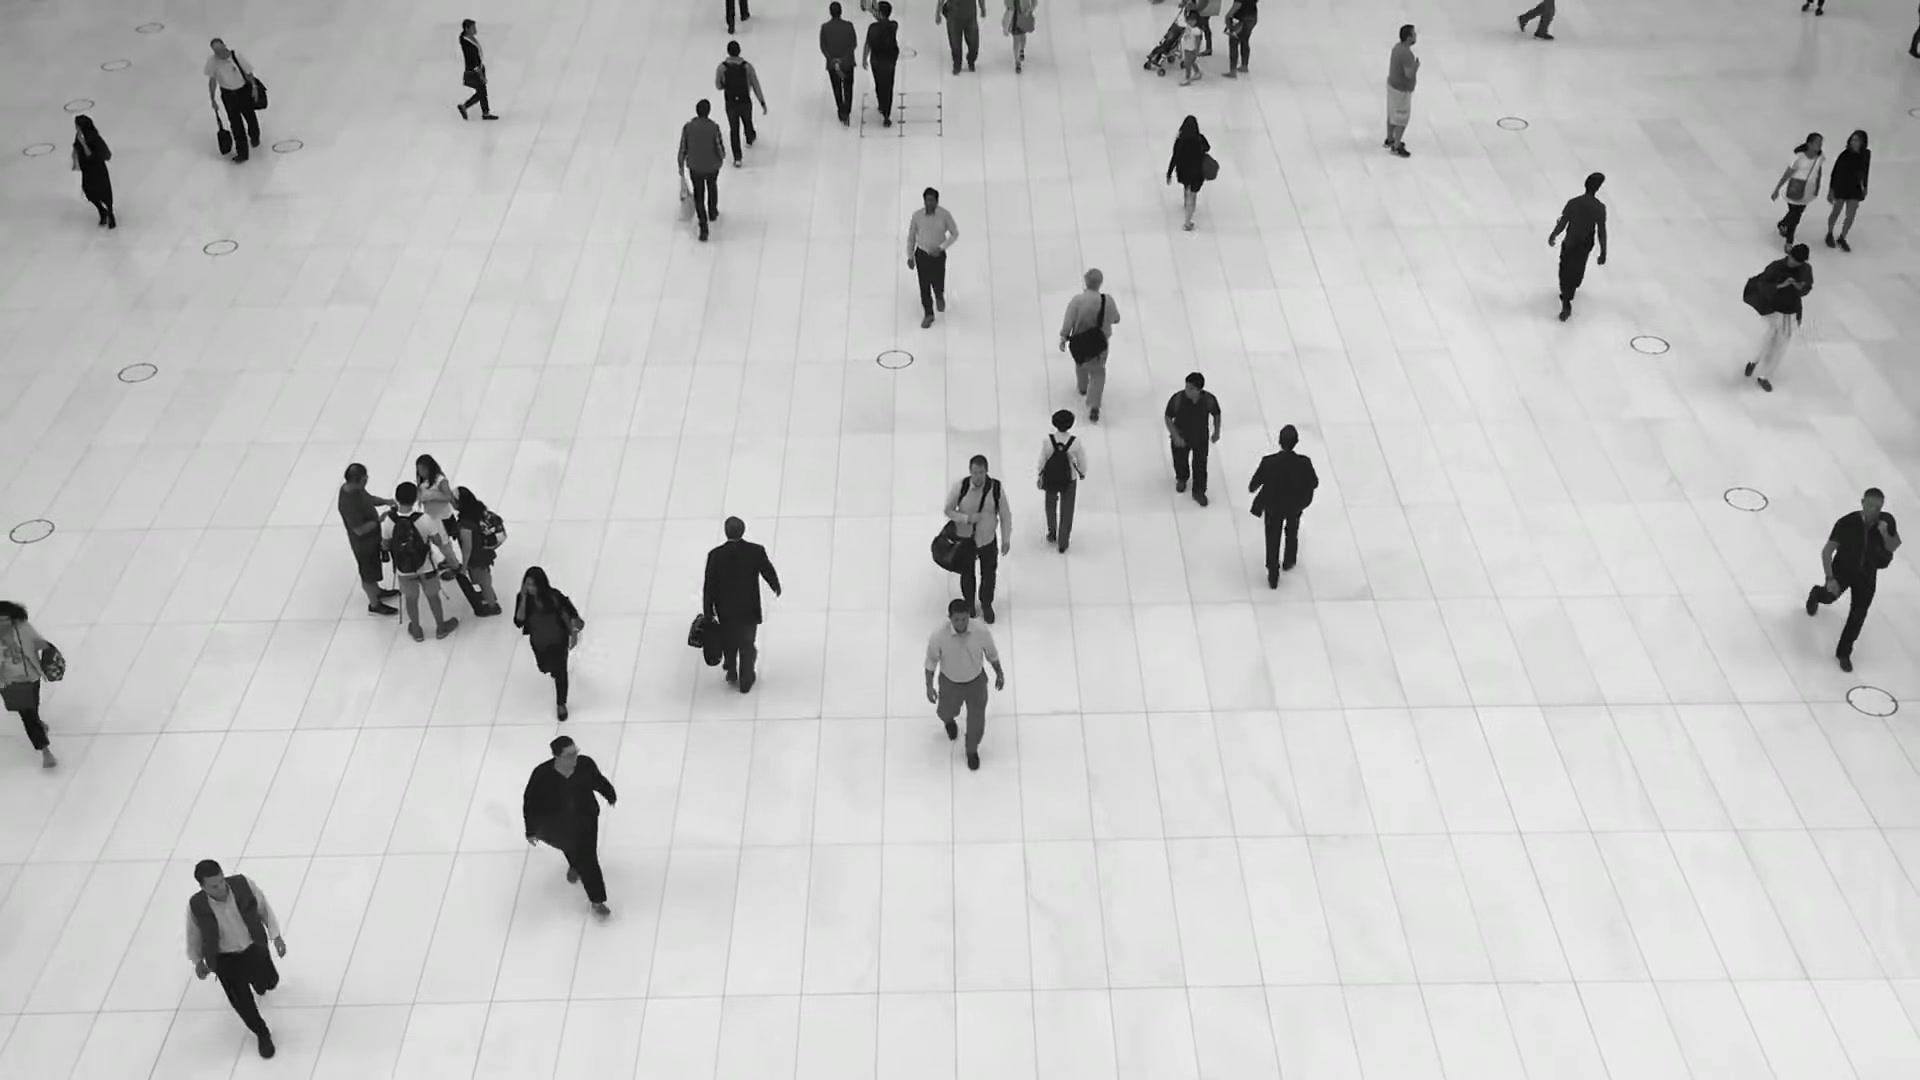person: (187, 859, 293, 1063), (524, 735, 617, 909), (1813, 483, 1902, 661), (921, 599, 1002, 784), (697, 518, 776, 713), (1249, 427, 1321, 600), (381, 481, 459, 641), (512, 566, 588, 723), (948, 458, 1014, 629), (1743, 245, 1813, 403), (0, 599, 56, 769), (337, 464, 400, 615), (1060, 266, 1123, 412), (1550, 169, 1609, 314), (906, 188, 962, 338), (1162, 374, 1223, 510), (1034, 413, 1085, 565), (203, 35, 260, 161), (450, 485, 502, 617), (677, 95, 727, 234), (1821, 130, 1872, 255), (715, 38, 763, 162), (1167, 112, 1220, 224), (1776, 131, 1826, 246), (456, 20, 511, 121), (415, 453, 459, 580), (71, 114, 118, 231), (1383, 24, 1421, 157), (819, 3, 858, 128), (863, 1, 899, 122), (1177, 12, 1202, 87)
